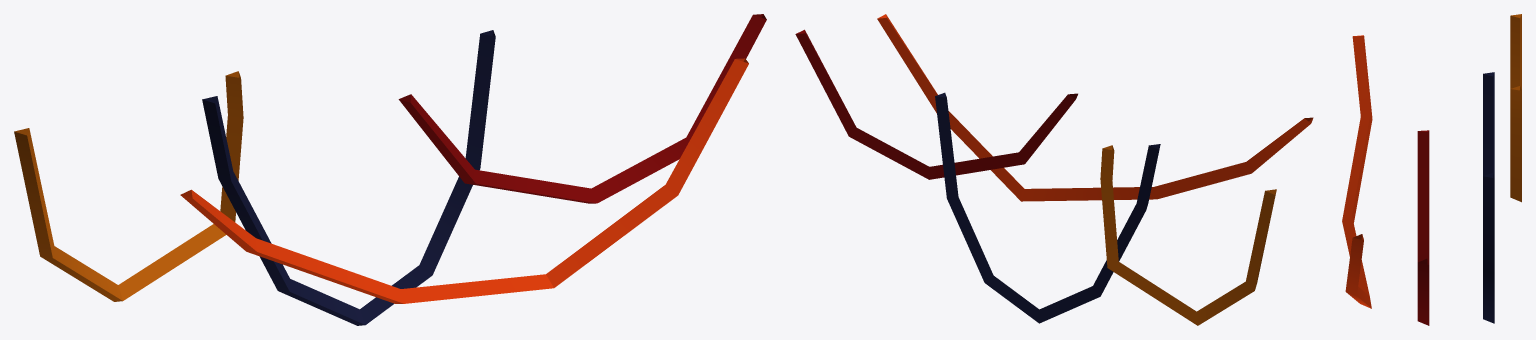
The model's file is MDL_Cables.FBX.
The picture shows the model from 3 angles, left to right: view 1: azimuth 30°, elevation 25°; view 2: azimuth 150°, elevation 25°; view 3: azimuth 270°, elevation 25°; orthographic projection. The views are drawn at different scales.
Parts seen in each view (by area): view 1: Line006; view 2: Line006; view 3: Line006.
Boxes of the visible parts, x1=… form: Line006: x1=14, y1=14, x2=766, y2=325; Line006: x1=795, y1=14, x2=1313, y2=325; Line006: x1=1342, y1=14, x2=1521, y2=325.
Size of the model in its own units: 135 by 49.95 by 41.38.
